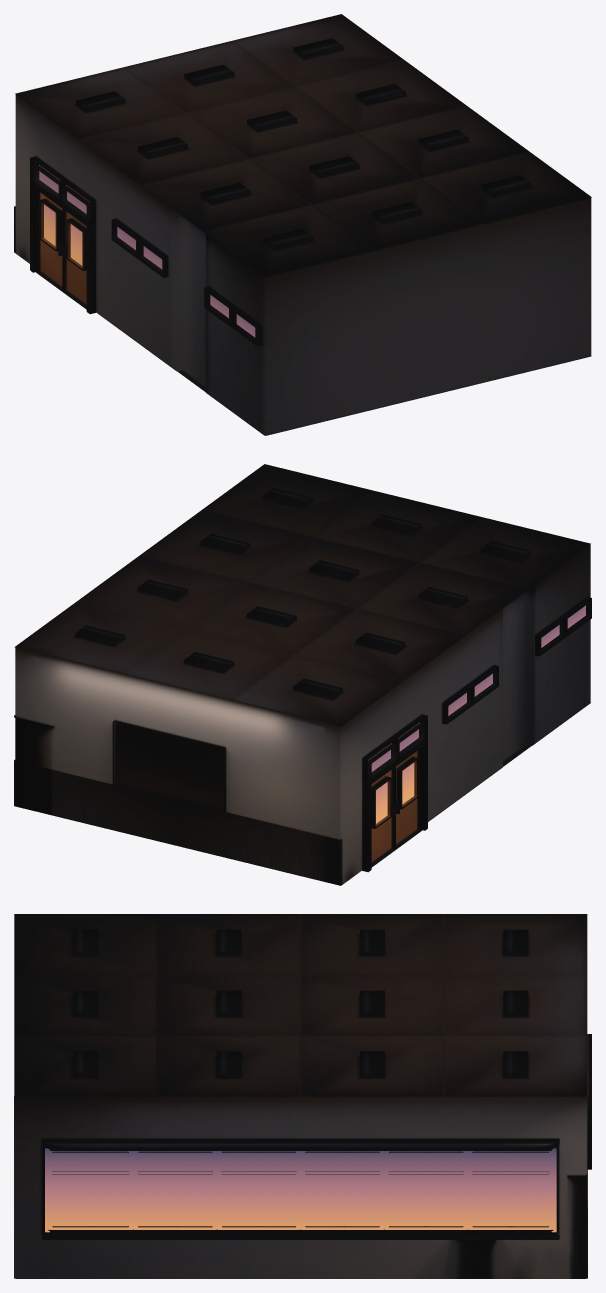
File: classroom_alternative.glb
The picture shows the model from 3 angles, top to bottom: view 1: azimuth 30°, elevation 25°; view 2: azimuth 150°, elevation 25°; view 3: azimuth 270°, elevation 25°; orthographic projection. The views are drawn at different scales.
Parts seen in each view (by area): view 1: Classroom; view 2: Classroom; view 3: Classroom.
Part boxes in pixels (box(x1,y1,x2,y2)): Classroom: box(14, 14, 591, 435); Classroom: box(14, 464, 591, 885); Classroom: box(14, 914, 591, 1278).
Bounding box in the file's own units: 9.38 × 4.28 × 11.99.
Materials: 2 (1 with a texture image).
